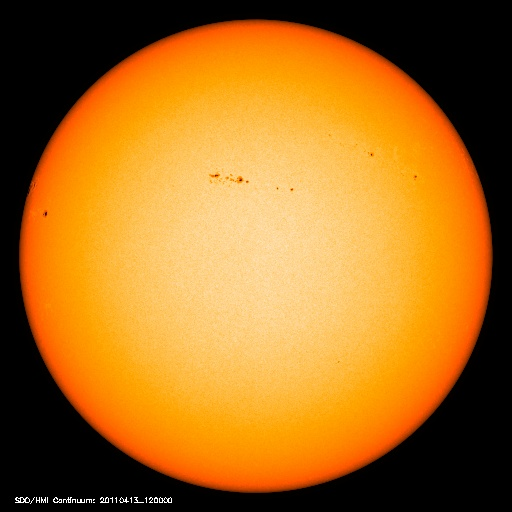sunspot: (313, 125, 428, 186), (195, 164, 299, 200), (30, 200, 58, 224)
